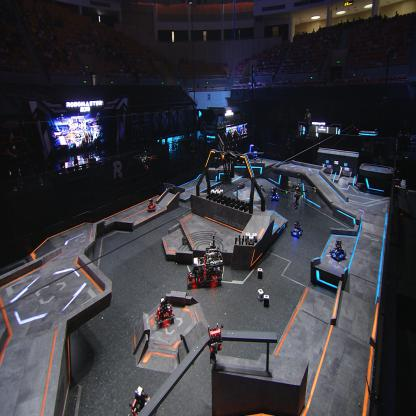car: (203, 246, 224, 288), (126, 386, 154, 416), (154, 297, 176, 330), (186, 256, 206, 290), (329, 239, 347, 262), (291, 220, 303, 238), (147, 197, 156, 212), (214, 184, 222, 200), (270, 186, 279, 200)
